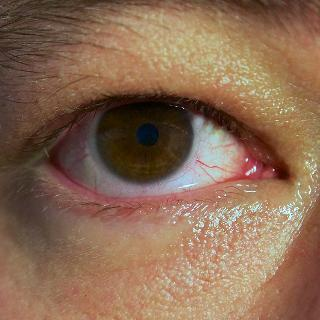iris: (98, 86, 194, 183)
